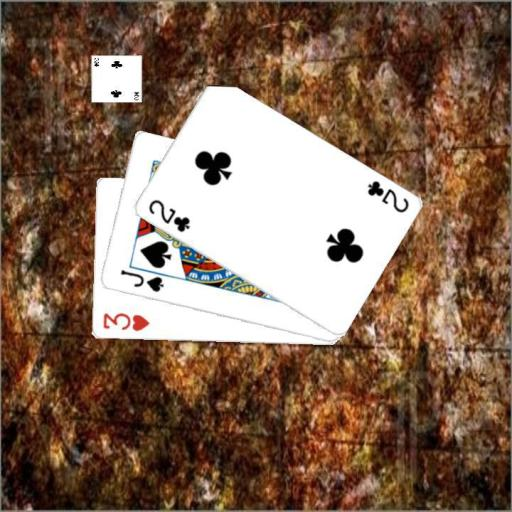2C: (145, 196, 192, 234), (364, 177, 411, 215)
3H: (100, 310, 151, 333)
JS: (117, 267, 165, 294)
